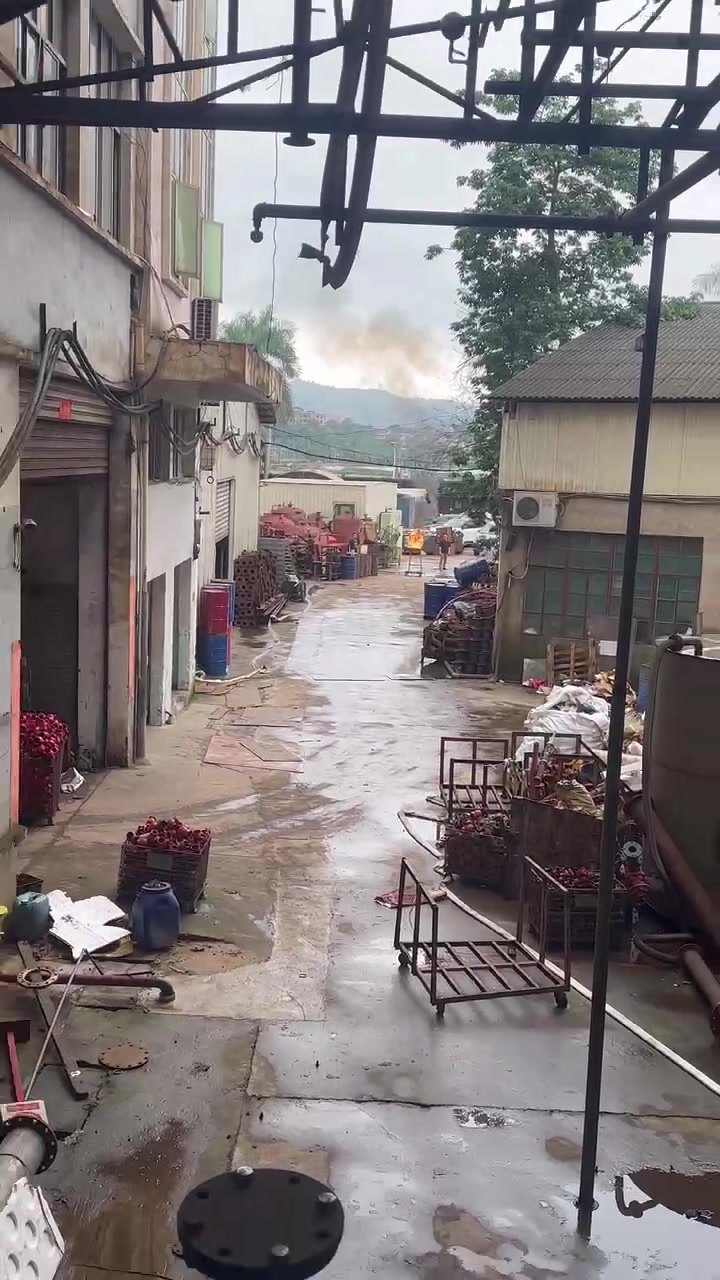fire: (407, 529, 423, 548)
